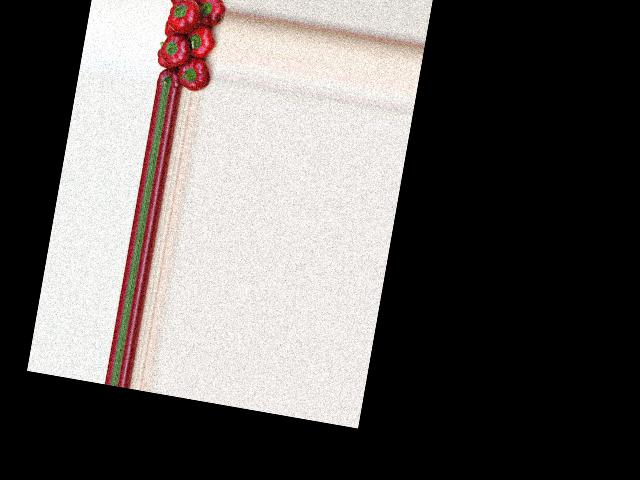bell_pepper: (161, 22, 177, 37)
